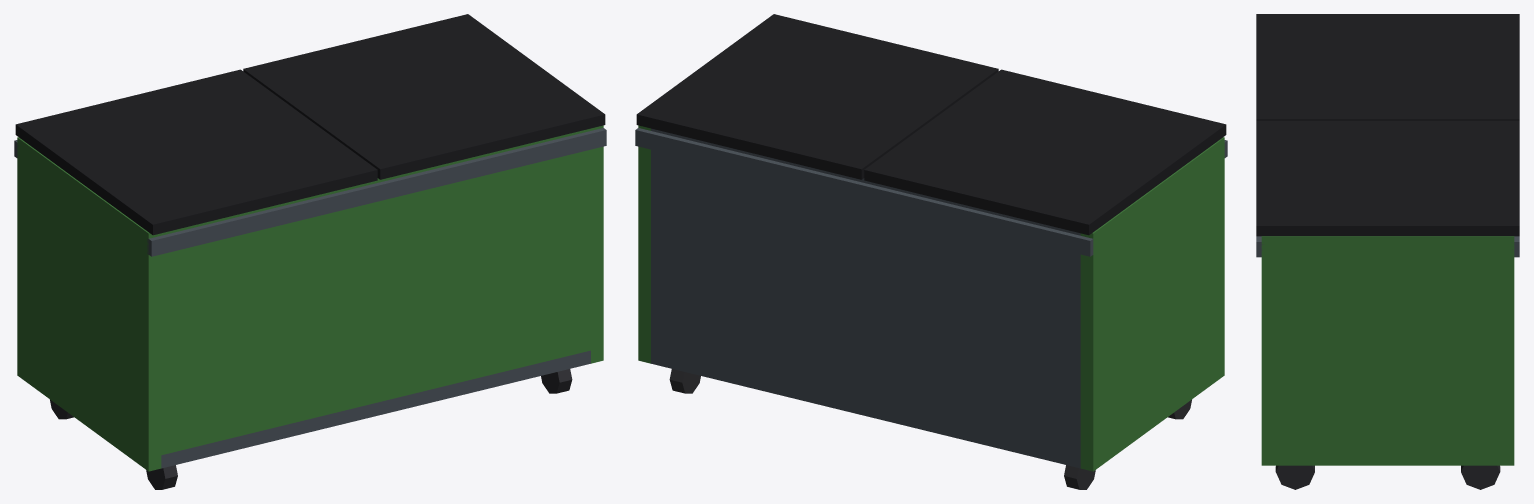
The model's file is GI_Dumpster_01.glb.
3 renders of one model, left to right at view 1: azimuth 30°, elevation 25°; view 2: azimuth 150°, elevation 25°; view 3: azimuth 270°, elevation 25°, orthographic. The views are drawn at different scales.
Parts seen in each view (by area): view 1: GI_Dumpster_01, LidL, LidR; view 2: GI_Dumpster_01, LidL, LidR; view 3: GI_Dumpster_01, LidR, LidL.
Part boxes in pixels (x1,y1,x2,y2): GI_Dumpster_01: [14, 125, 606, 489]; LidL: [15, 69, 377, 235]; LidR: [243, 14, 605, 179]; GI_Dumpster_01: [635, 125, 1227, 489]; LidL: [864, 69, 1226, 235]; LidR: [636, 14, 998, 179]; GI_Dumpster_01: [1256, 236, 1519, 489]; LidR: [1256, 120, 1519, 236]; LidL: [1256, 14, 1519, 120].
Bounding box in the file's own units: 1.8 × 1.08 × 0.94.
1 material, 1 textured.
